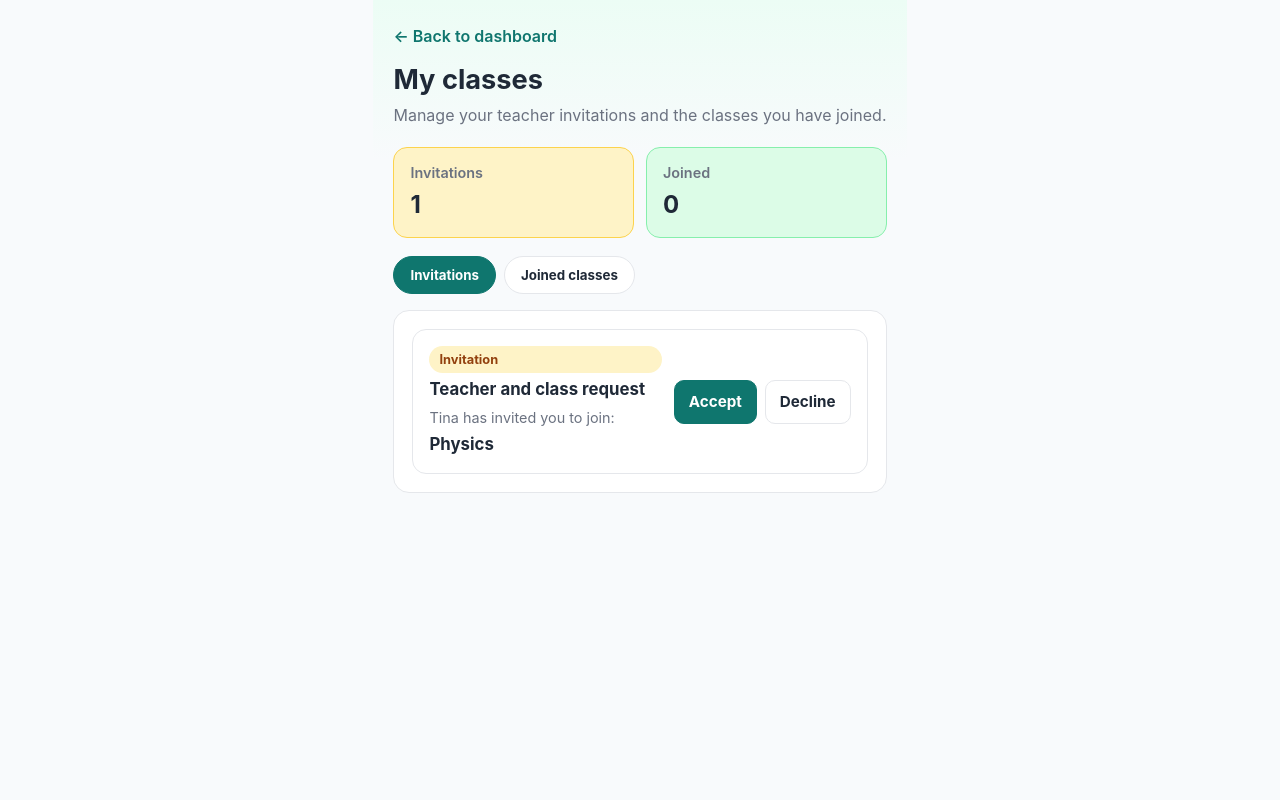
Test: accept on classes page moves invitation into joined list
This screenshot has width=1280, height=800.
Expected: the text "Physics" is shown, [430, 434, 494, 454]
Click the button with aria-label "Accept invitation to Physics". click: (715, 402)
box: [674, 380, 757, 424]
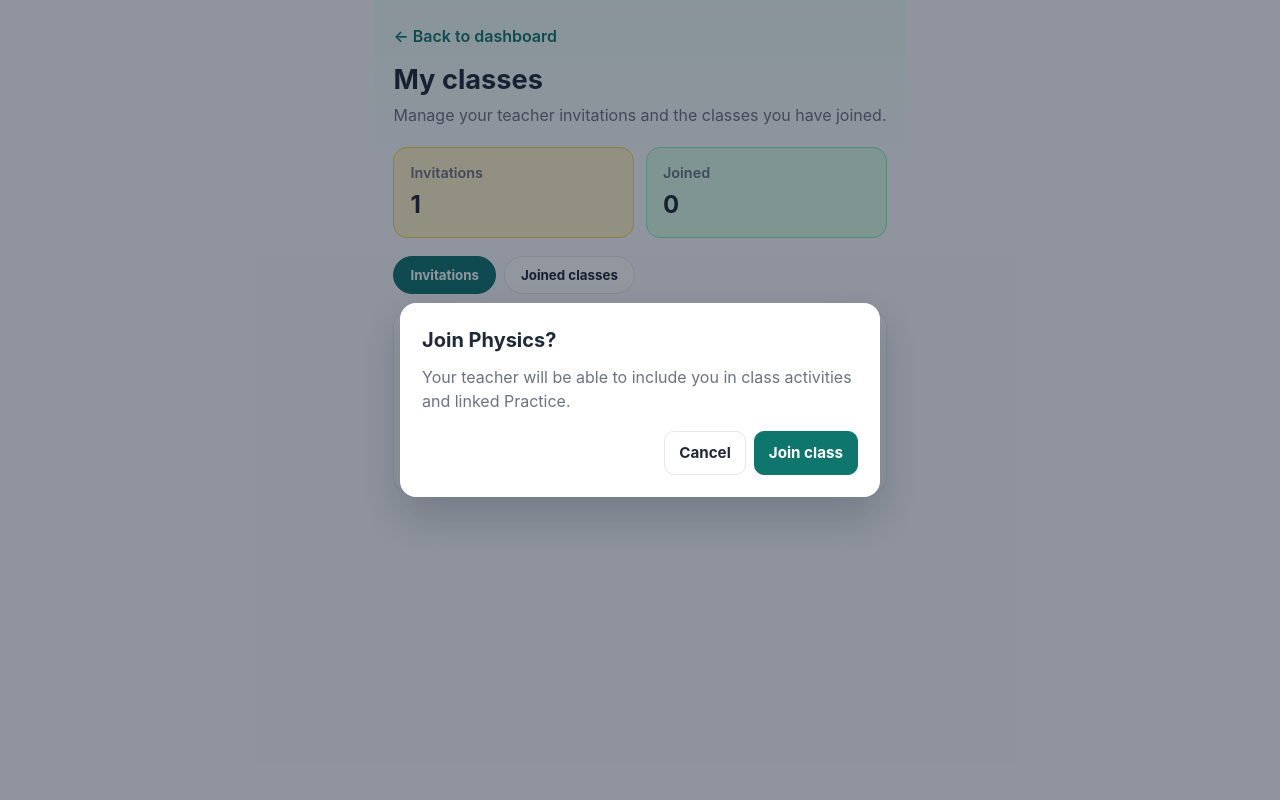
Click the button "Join class". click: (806, 453)
box: [754, 431, 858, 475]
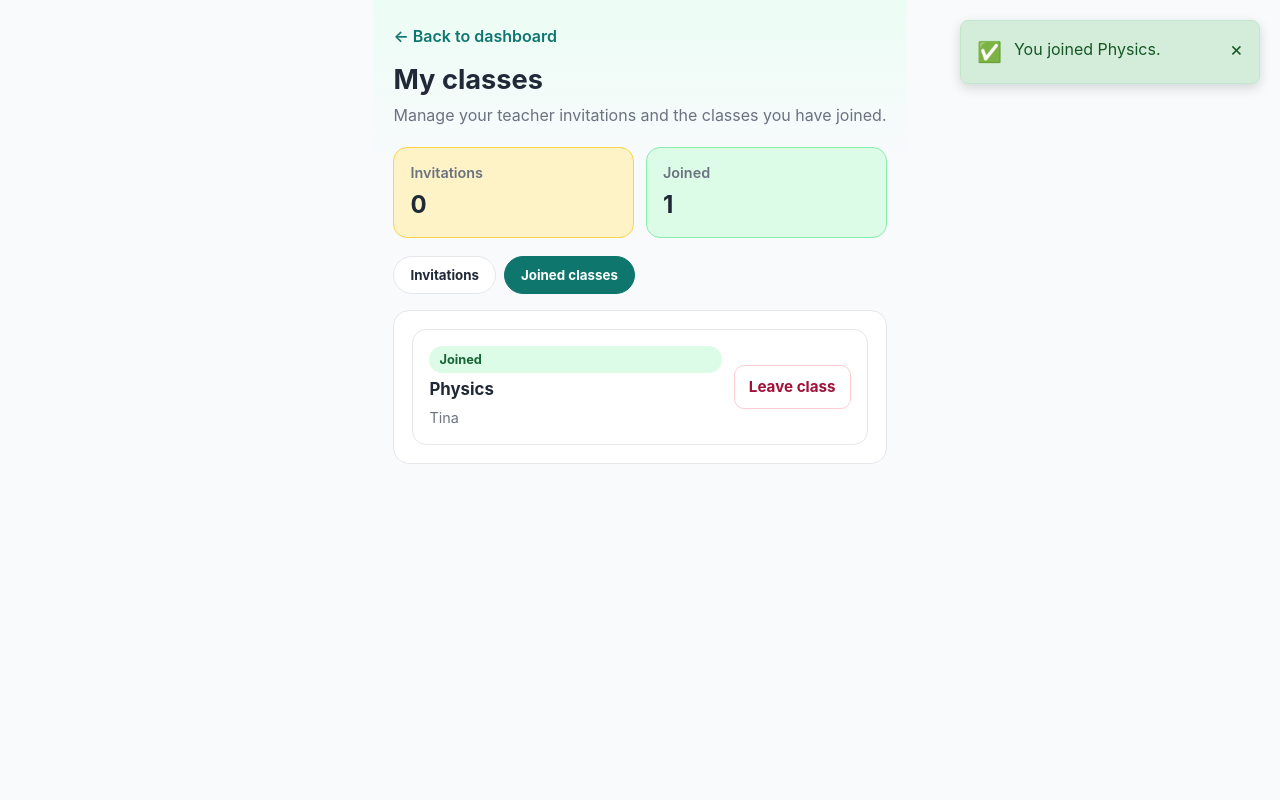
Expected: the text "You joined Physics." is shown, [1014, 39, 1161, 59]
